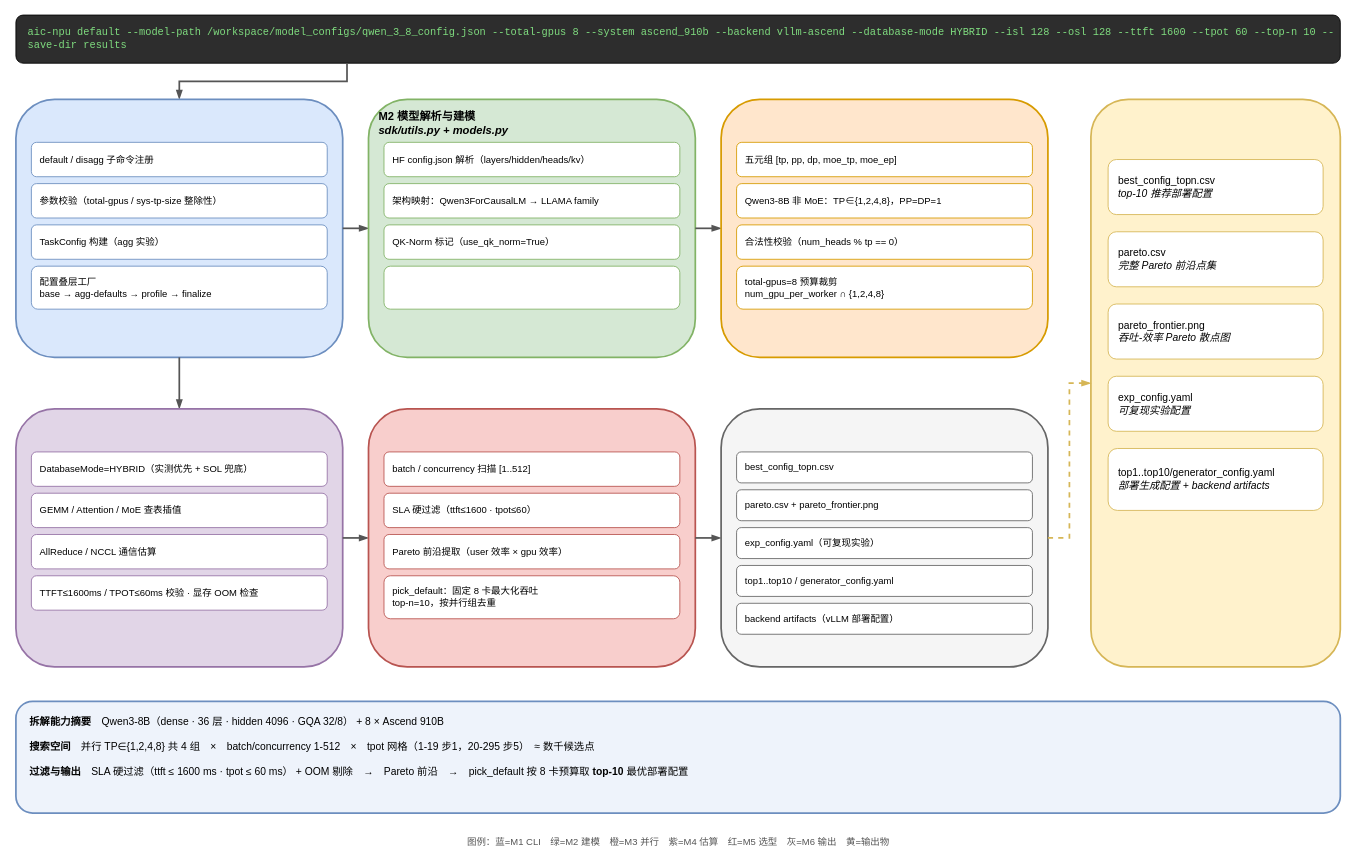
This 1355x866 diagram has some shape labels left out. The shapes that lost their labels are listed below. From the top down, each one's box as (x1, y1, x2, y2) in pixels, then its label:
(15, 98, 343, 358): M1 CLI 参数解析 cli/main.py
(720, 98, 1048, 358): M3 并行配置拆解 sdk/utils.py
(383, 265, 680, 309): LLAMAModel 算子图构建 Embedding / QKV / Attn / Proj / FFN / Logits
(1090, 98, 1341, 667): 输出物 Output Files
(15, 408, 343, 667): M4 性能估算引擎 sdk/perf_database.py + inference_session.py
(367, 408, 696, 667): M5 Pareto 选型 sdk/pareto_analysis.py + picking.py
(720, 408, 1048, 667): M6 结果输出与部署生成 cli/report_and_save.py + generator/
